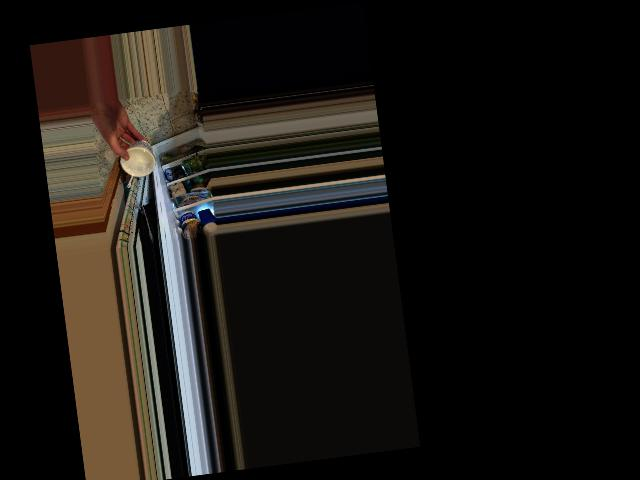cotage: (122, 143, 157, 182)
